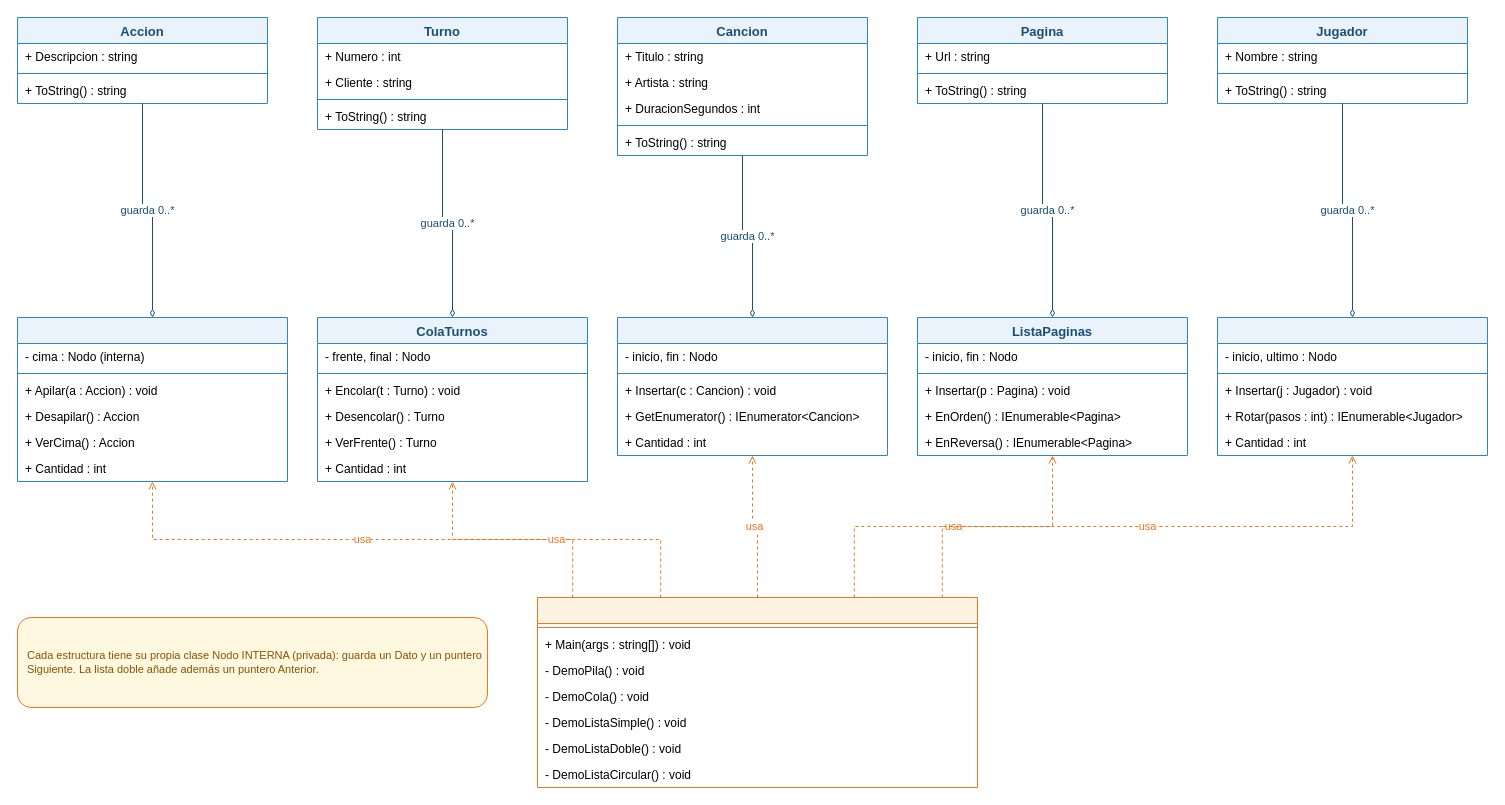
Some shapes in this 1505 by 805 pixel diagram are drawn without their labels. The shapes that lost their labels are listed below. From the top down, each one's box as (x1, y1, x2, y2) in pixels, then its label:
(16, 316, 288, 482): PilaAcciones
(616, 316, 888, 456): ListaCanciones
(1216, 316, 1488, 456): ListaCircularJugadores
(536, 596, 978, 788): Program
